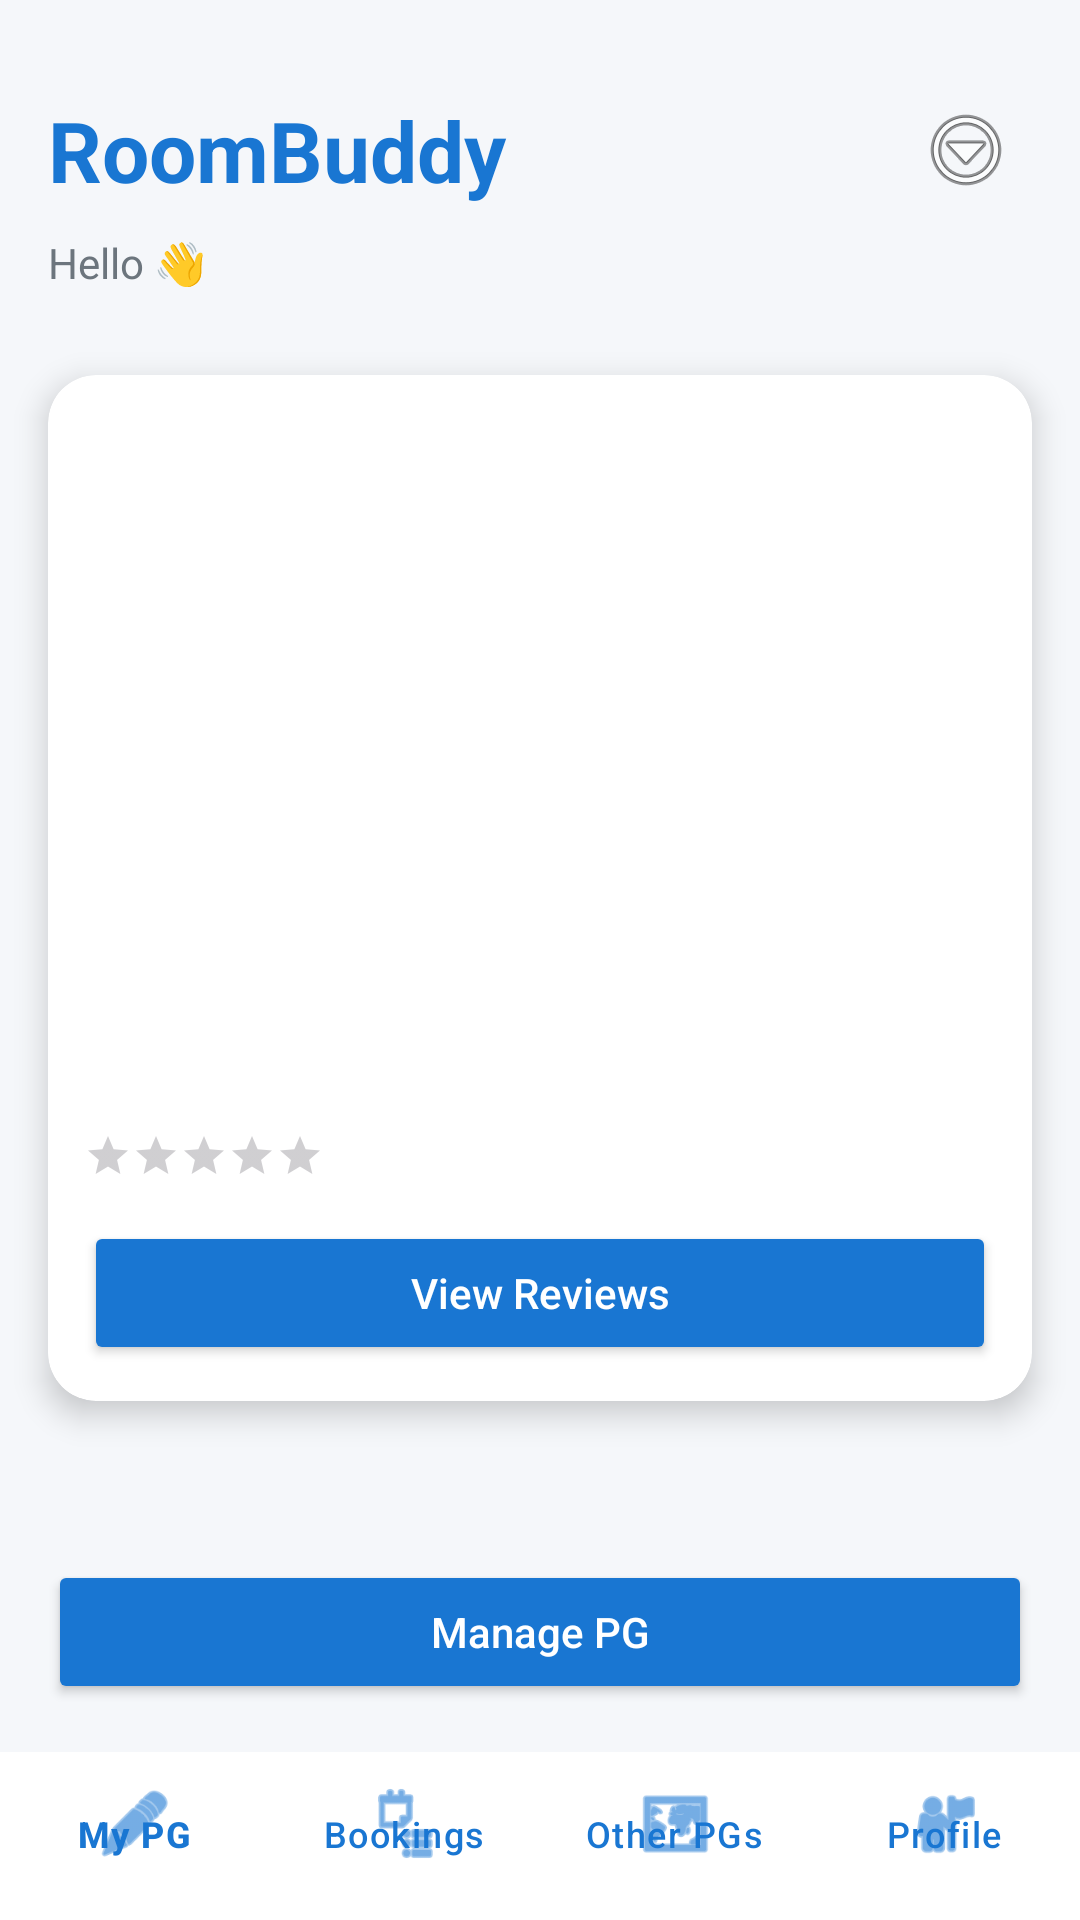

Named icons in this screenshot (1080 × 1920) and their centers, [x,y]:
Menu: [966,150]
